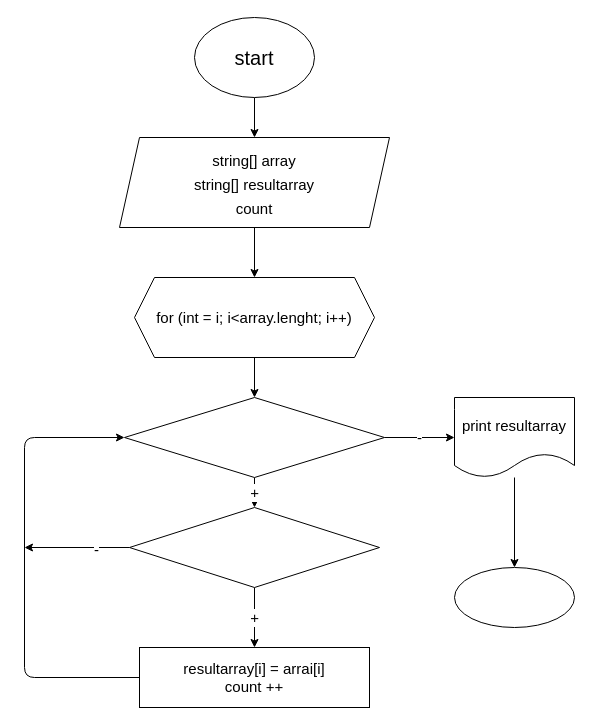
The diagram is 592 pixels wide and 725 high, and some of its shapes have lost their labels. Each missing label, with the centre of its shape:
end: the point at 514,597
if array[i].lenght<=3: the point at 254,547
if count<array.lenght-1: the point at 254,437
